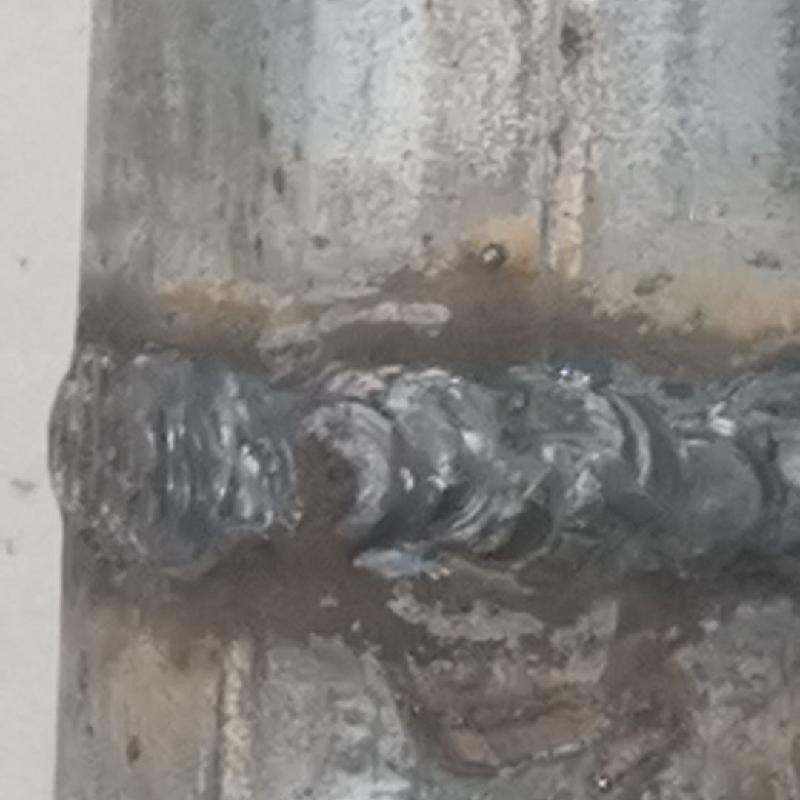good: (31, 330, 799, 577)
